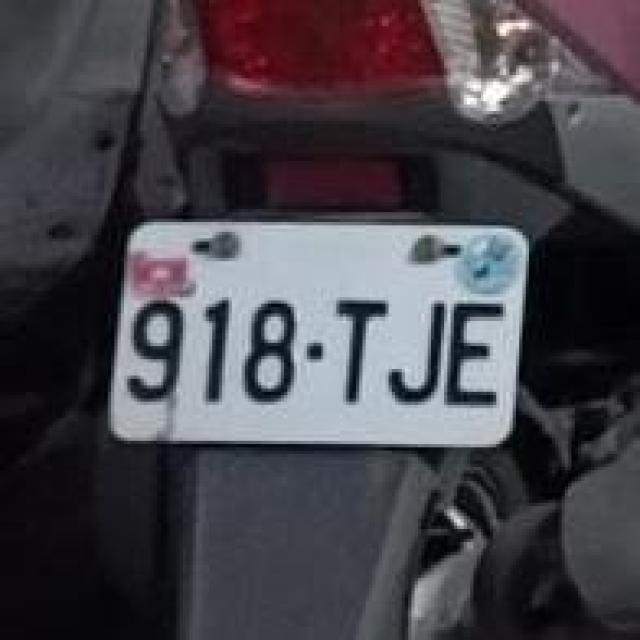W: (91, 186, 539, 464)
